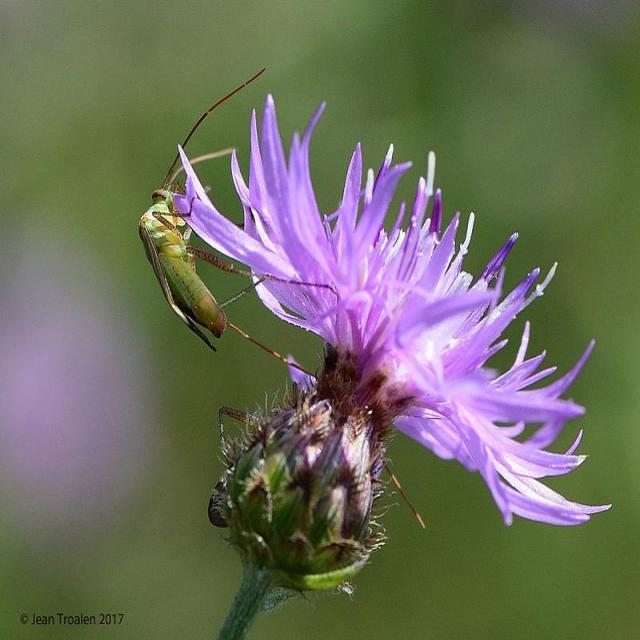Miridae-Adult-: (128, 61, 281, 346)
